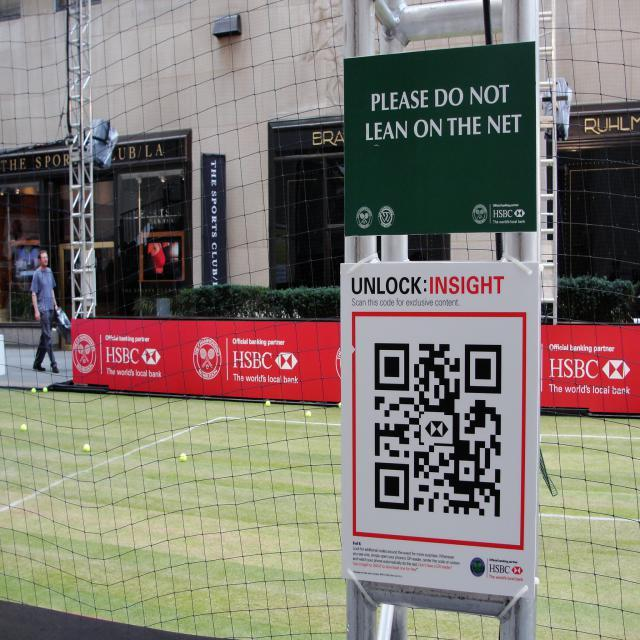qrcode: (376, 344, 502, 517)
